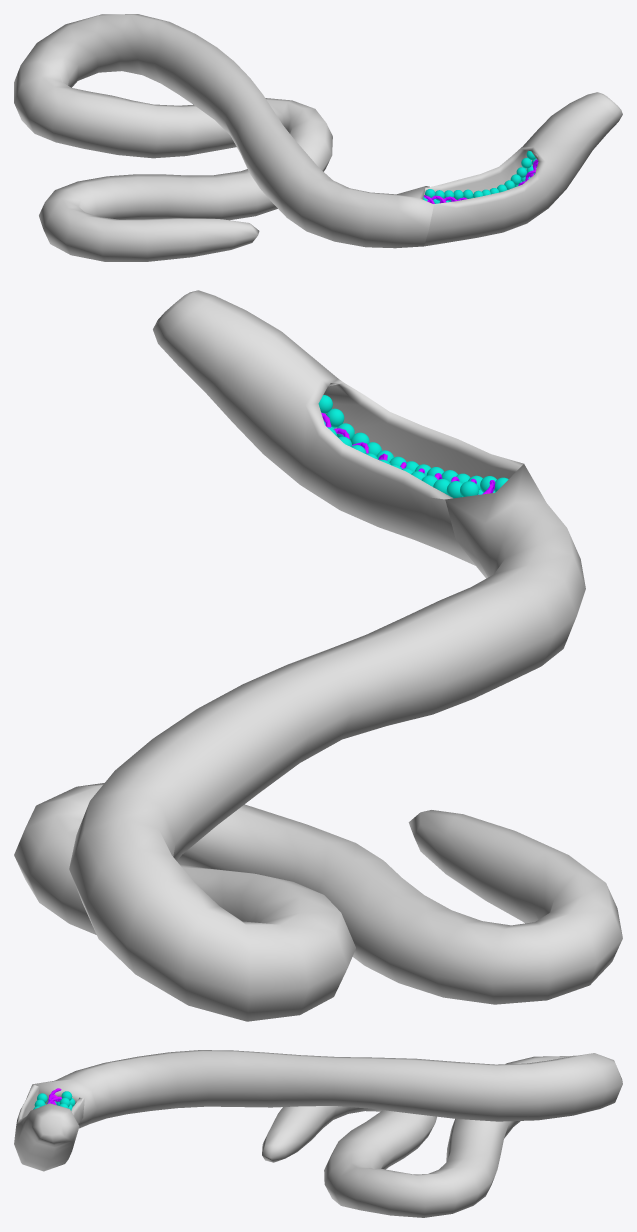
File: 7f682e0e-5b78-41bc-9f62-ec730efde68d-virus-ebola.fbx
3 renders of one model, top to bottom at view 1: azimuth 30°, elevation 25°; view 2: azimuth 150°, elevation 25°; view 3: azimuth 270°, elevation 25°, orthographic. The views are drawn at different scales.
Parts seen in each view (by area): view 1: Cube.002, Sphere; view 2: Cube.002, Sphere; view 3: Cube.002, Sphere.
Part boxes in pixels (box(x1,y1,x2,y2)): Cube.002: box(14, 14, 622, 261); Sphere: box(423, 150, 536, 203); Cube.002: box(14, 290, 622, 1021); Sphere: box(318, 395, 508, 498); Cube.002: box(14, 1050, 622, 1217); Sphere: box(33, 1091, 75, 1110).
Size of what is drawn, in the model's own units: 399 by 168 by 515.
